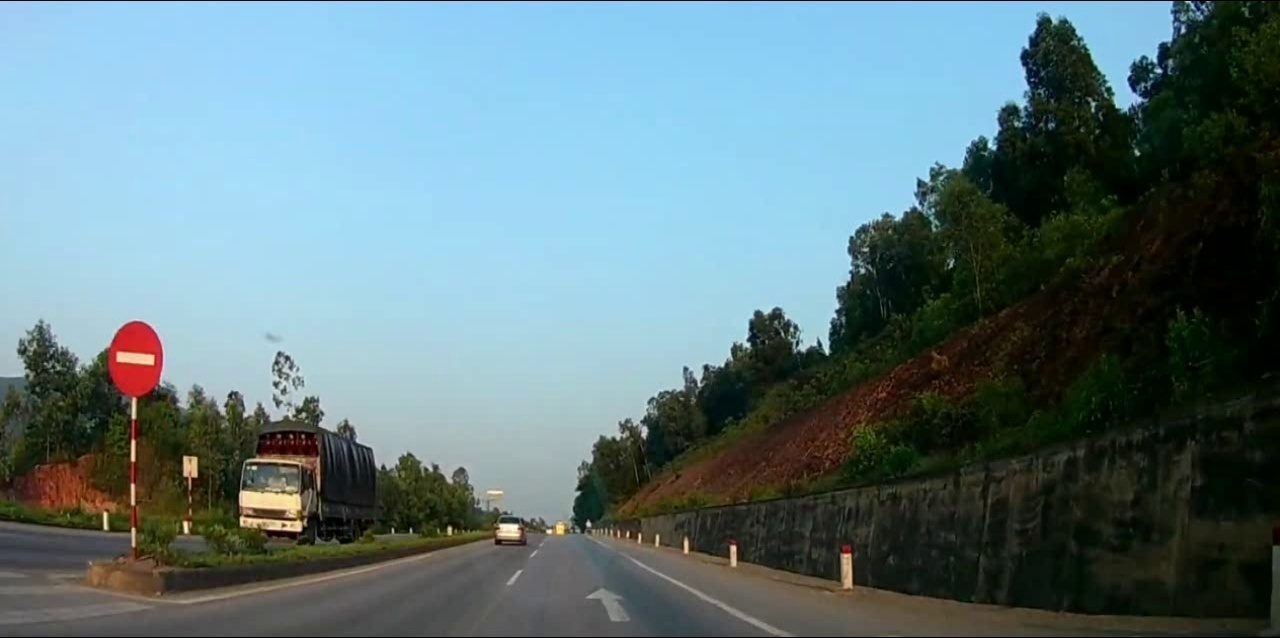Cam di nguoc chieu: (105, 320, 163, 398)
